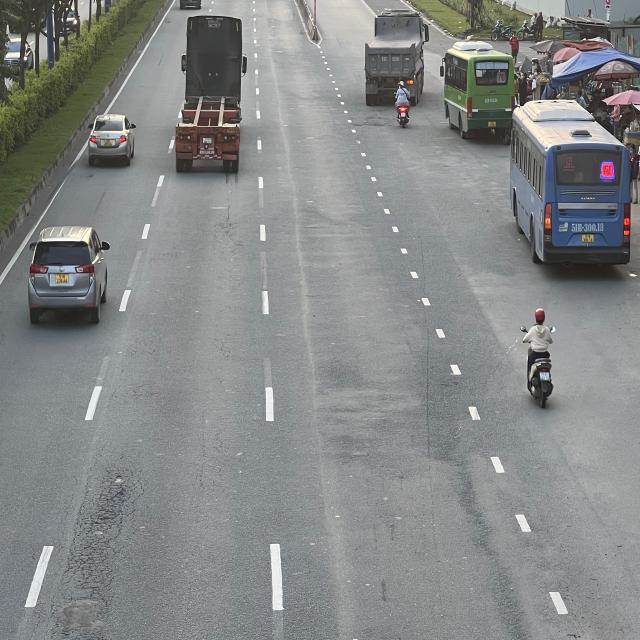car: (28, 228, 111, 324), (90, 115, 140, 169)
coach: (509, 102, 634, 269), (441, 40, 515, 136)
container: (175, 13, 248, 171), (361, 7, 425, 105)
